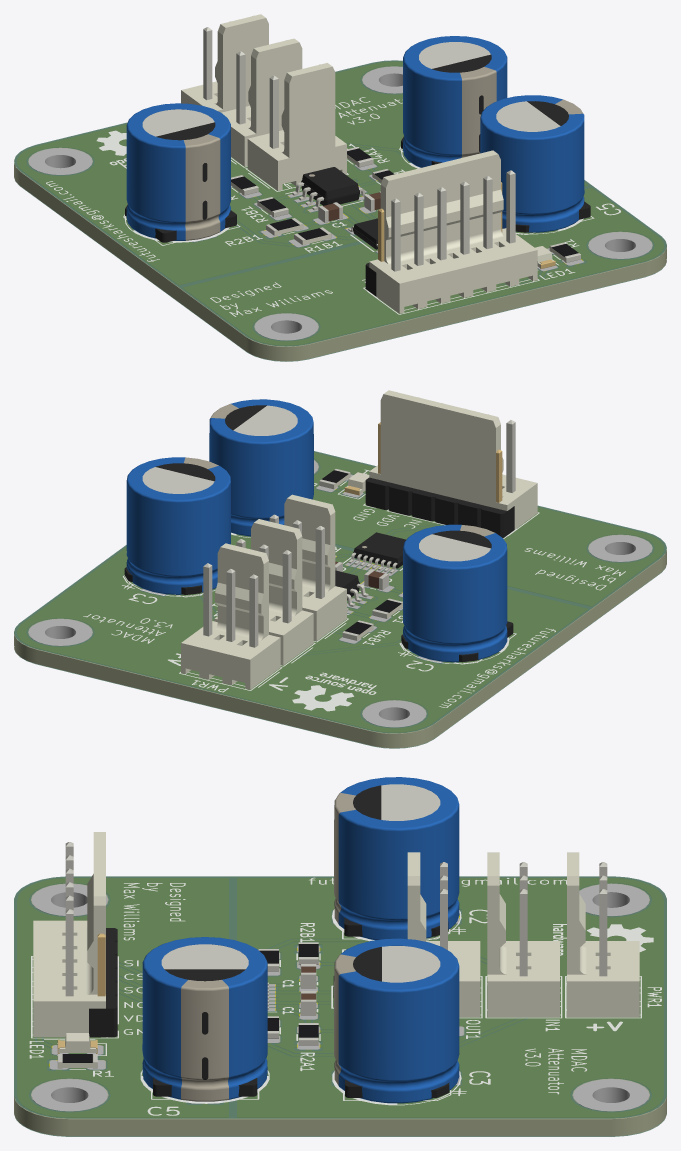
File: board.glb
3 views of the same model, one above another, from view 1: azimuth 30°, elevation 25°; view 2: azimuth 150°, elevation 25°; view 3: azimuth 270°, elevation 25° (orthographic). The views are drawn at different scales.
Parts seen in each view (by area): view 1: board_soldermask (×2), board_copper, CP_Radial_D100mm_P500mm (×3), Molex_AE_6410_06A, Molex_AE_6410_03A (×3), board_PCB, CP_Elec_8x10 (×3), board_pad, board_silkscreen, SOIC-8_3.9x4.9mm_P1.27mm, PinHeader_1x06_P254mm_Vertical, TSSOP-16_4.4x5mm_P0.65mm; view 2: board_soldermask (×2), board_copper, CP_Radial_D100mm_P500mm (×3), Molex_AE_6410_03A (×3), Molex_AE_6410_06A, board_PCB, CP_Elec_8x10 (×3), board_pad, board_silkscreen, PinHeader_1x06_P254mm_Vertical, TSSOP-16_4.4x5mm_P0.65mm, SOIC-8_3.9x4.9mm_P1.27mm; view 3: board_soldermask (×2), board_copper, CP_Radial_D100mm_P500mm (×3), Molex_AE_6410_03A (×3), board_PCB, Molex_AE_6410_06A, CP_Elec_8x10 (×3), board_pad, board_silkscreen, PinHeader_1x06_P254mm_Vertical, LED_1206_3216Metric, R_1206_3216Metric.
Boxes of the visible parts, x1,y1,x2,y2 form: board_soldermask (×2): (14, 60, 666, 361); board_copper: (17, 62, 663, 344); CP_Radial_D100mm_P500mm (×3): (126, 36, 584, 240); Molex_AE_6410_06A: (369, 150, 537, 313); Molex_AE_6410_03A (×3): (181, 14, 346, 190); board_PCB: (14, 61, 666, 361); CP_Elec_8x10 (×3): (125, 42, 590, 242); board_pad: (28, 66, 652, 340); board_silkscreen: (46, 97, 620, 316); SOIC-8_3.9x4.9mm_P1.27mm: (292, 167, 367, 210); PinHeader_1x06_P254mm_Vertical: (365, 182, 502, 296); TSSOP-16_4.4x5mm_P0.65mm: (348, 218, 377, 249); board_soldermask (×2): (14, 451, 666, 748); board_copper: (17, 453, 663, 731); CP_Radial_D100mm_P500mm (×3): (126, 399, 507, 662); Molex_AE_6410_03A (×3): (181, 494, 346, 689); Molex_AE_6410_06A: (369, 390, 537, 529); board_PCB: (14, 452, 666, 748); CP_Elec_8x10 (×3): (124, 405, 513, 662); board_pad: (28, 460, 652, 727); board_silkscreen: (83, 469, 625, 711); PinHeader_1x06_P254mm_Vertical: (365, 422, 514, 537); TSSOP-16_4.4x5mm_P0.65mm: (348, 532, 405, 573); SOIC-8_3.9x4.9mm_P1.27mm: (335, 570, 368, 611); board_soldermask (×2): (14, 876, 666, 1136); board_copper: (17, 878, 663, 1117); CP_Radial_D100mm_P500mm (×3): (142, 777, 459, 1103); Molex_AE_6410_03A (×3): (407, 852, 639, 1017); board_PCB: (14, 877, 666, 1136); Molex_AE_6410_06A: (33, 832, 105, 1037); CP_Elec_8x10 (×3): (153, 784, 449, 1097); board_pad: (31, 884, 649, 1111); board_silkscreen: (29, 877, 661, 1115); PinHeader_1x06_P254mm_Vertical: (89, 928, 117, 1037); LED_1206_3216Metric: (57, 1033, 97, 1053); R_1206_3216Metric: (57, 1054, 97, 1068).
Bounding box in the file's own units: 0.0457 × 0.0153 × 0.0521.
